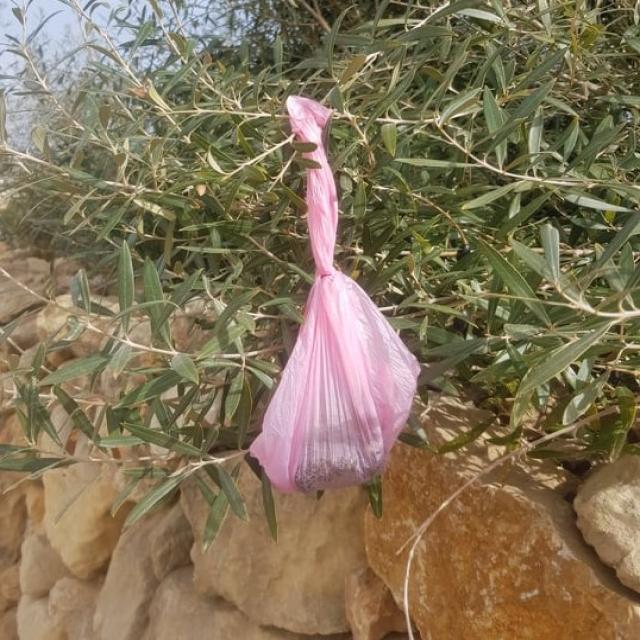Plastic bag - wrapper: (247, 95, 423, 498)
